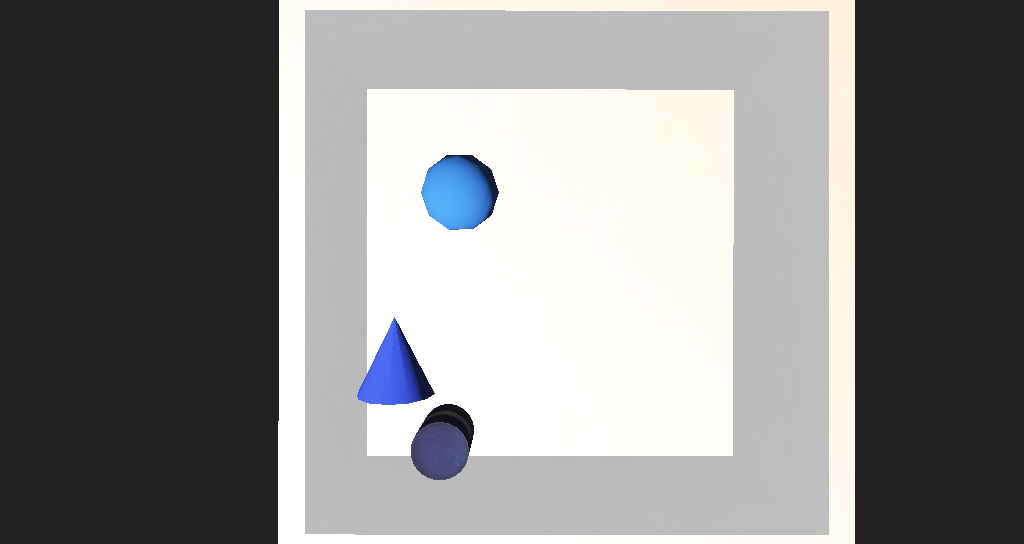cone: (391, 346, 445, 389)
cylinder: (340, 293, 414, 346)
sphere: (401, 203, 461, 246)
